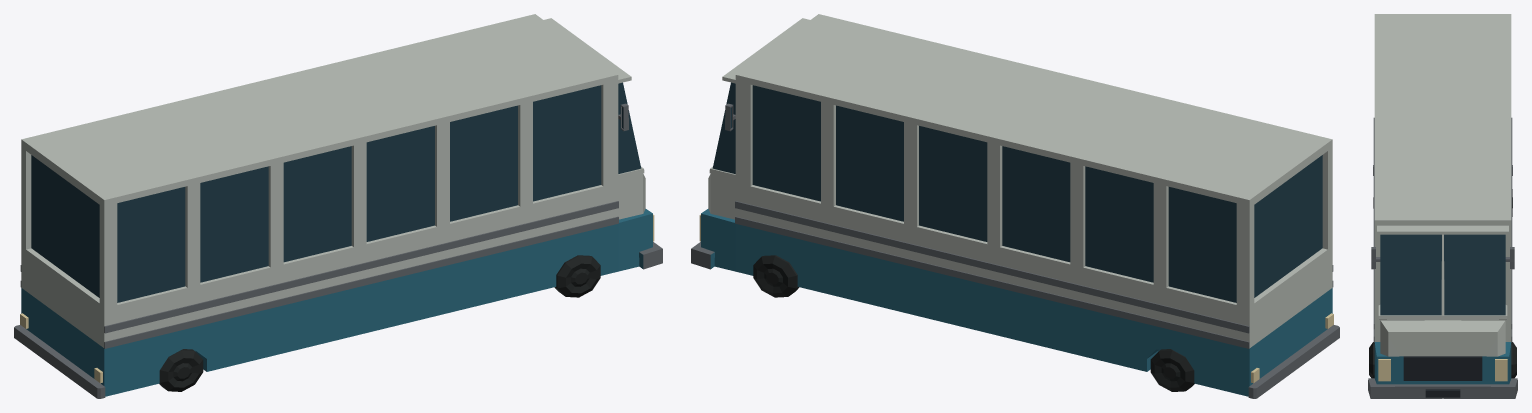
File: bus.glb
3 renders of one model, left to right at view 1: azimuth 30°, elevation 25°; view 2: azimuth 150°, elevation 25°; view 3: azimuth 270°, elevation 25°, orthographic. The views are drawn at different scales.
Parts seen in each view (by area): view 1: BackWheels; view 2: BackWheels; view 3: BackWheels.
Boxes of the visible parts, box(x1,y1,x2,y2) form: BackWheels: box(14, 14, 662, 398); BackWheels: box(691, 14, 1339, 398); BackWheels: box(1368, 14, 1517, 398).
Bounding box in the file's own units: 8.8 × 3.15 × 2.45.
